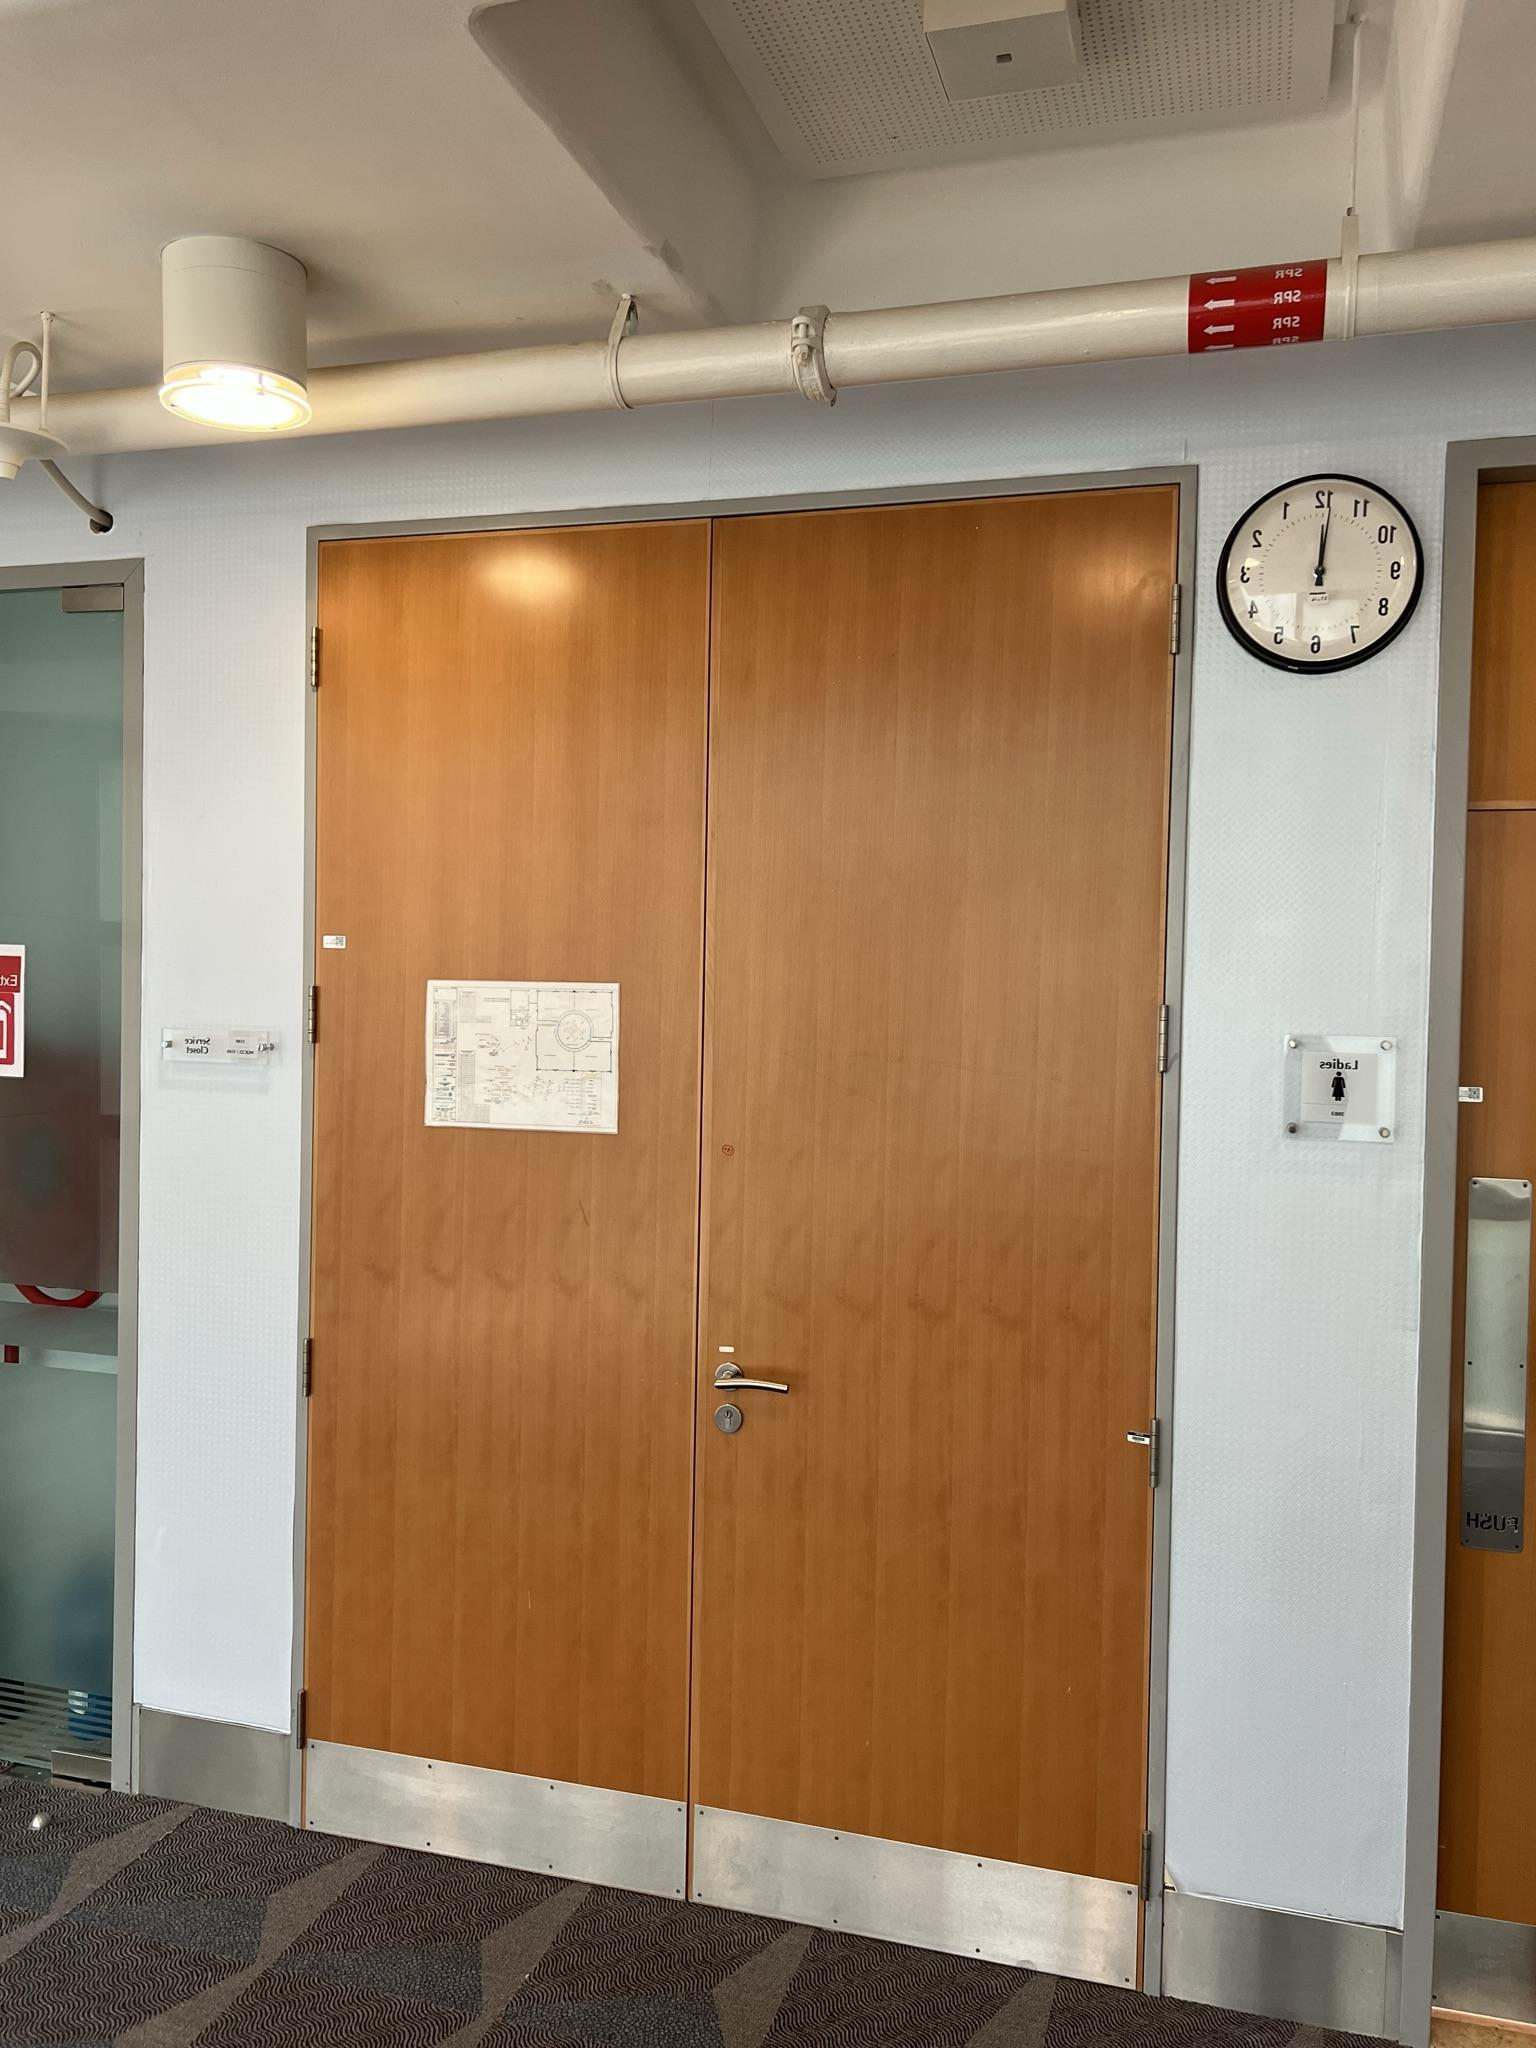door: (682, 476, 1175, 1979), (295, 497, 703, 1879)
handle: (712, 1347, 794, 1442)
